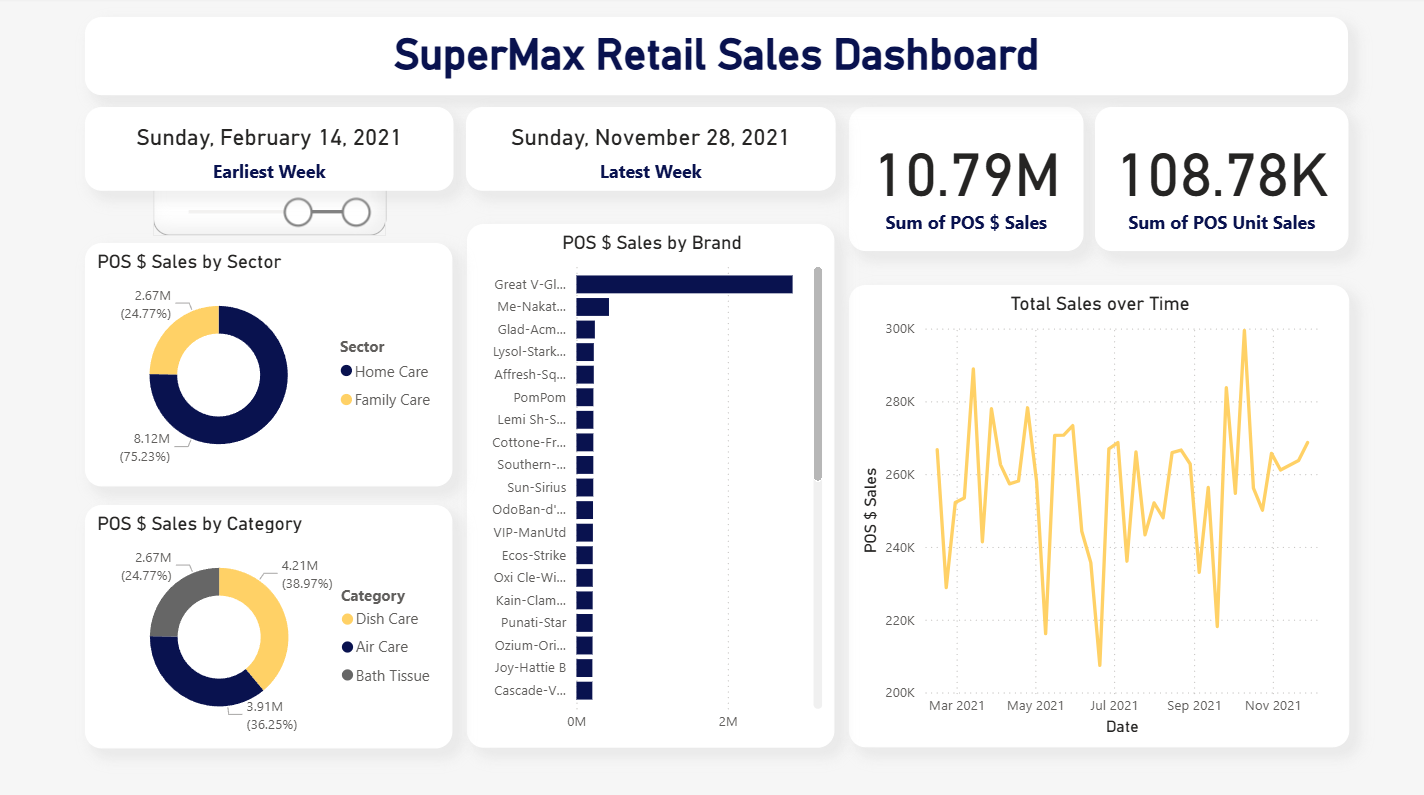

What the dashboard file says about the page in this screenshot:
{"tool":"powerbi","page":{"name":"Page 1","canvas":[1280,720],"ordinal":0},"visuals":[{"type":"slicer","title":"Week","fields":{"Values":["Table2 (3).WeekIndex"]},"box":[140.6,130.7,208.7,83.3],"z":0},{"type":"card","fields":{"Values":["Sum(Table2 (3).POS $ Sales)"]},"box":[763.8,98.8,210,128.8],"z":1000},{"type":"textbox","box":[79.9,18,1131.1,69.9],"z":2000},{"type":"card","fields":{"Values":["Sum(Table2 (3).POS Unit Sales)"]},"box":[984.2,98.9,226.8,128.9],"z":3000},{"type":"card","fields":{"Values":["Min(Table2 (3).Week)"]},"box":[79.9,98.9,329.7,74.9],"z":4000},{"type":"card","fields":{"Values":["Max(Table2 (3).Week)"]},"box":[420.7,98.9,330.7,74.9],"z":5000},{"type":"lineChart","title":"Total Sales over Time","fields":{"Y":["Sum(Table2 (3).POS $ Sales)"],"Category":["Table2 (3).Week.Variation.Date Hierarchy.Year","Table2 (3).Week.Variation.Date Hierarchy.Quarter","Table2 (3).Week.Variation.Date Hierarchy.Month","Table2 (3).Week.Variation.Date Hierarchy.Day"]},"box":[763.5,258.3,447.7,413.9],"z":6000},{"type":"clusteredBarChart","title":"POS $ Sales by Brand","fields":{"Category":["Table2 (3).Brand"],"Y":["Sum(Table2 (3).POS $ Sales)"]},"box":[421.8,203,329.3,469.1],"z":7000},{"type":"donutChart","title":"POS $ Sales by Sector","fields":{"Category":["Table2 (3).Sector"],"Y":["Sum(Table2 (3).POS $ Sales)"]},"box":[80,220,329.4,217.5],"z":8000},{"type":"donutChart","title":"POS $ Sales by Category","fields":{"Category":["Table2 (3).Category"],"Y":["Sum(Table2 (3).POS $ Sales)"]},"box":[80.1,454.5,329.3,217.7],"z":9000}]}

Visuals, with their boxes in screenshot pixels (x1, y1, x2, y2), scaled from the page's 1280x720 canvas onto the 1424x795 screenshot:
"Week" slicer: {"x1": 156, "y1": 144, "x2": 389, "y2": 236}
card - Sum(Table2 (3).POS $ Sales): {"x1": 850, "y1": 109, "x2": 1083, "y2": 251}
textbox: {"x1": 89, "y1": 20, "x2": 1347, "y2": 97}
card - Sum(Table2 (3).POS Unit Sales): {"x1": 1095, "y1": 109, "x2": 1347, "y2": 252}
card - Min(Table2 (3).Week): {"x1": 89, "y1": 109, "x2": 456, "y2": 192}
card - Max(Table2 (3).Week): {"x1": 468, "y1": 109, "x2": 836, "y2": 192}
"Total Sales over Time" lineChart: {"x1": 849, "y1": 285, "x2": 1347, "y2": 742}
"POS $ Sales by Brand" clusteredBarChart: {"x1": 469, "y1": 224, "x2": 836, "y2": 742}
"POS $ Sales by Sector" donutChart: {"x1": 89, "y1": 243, "x2": 455, "y2": 483}
"POS $ Sales by Category" donutChart: {"x1": 89, "y1": 502, "x2": 455, "y2": 742}
